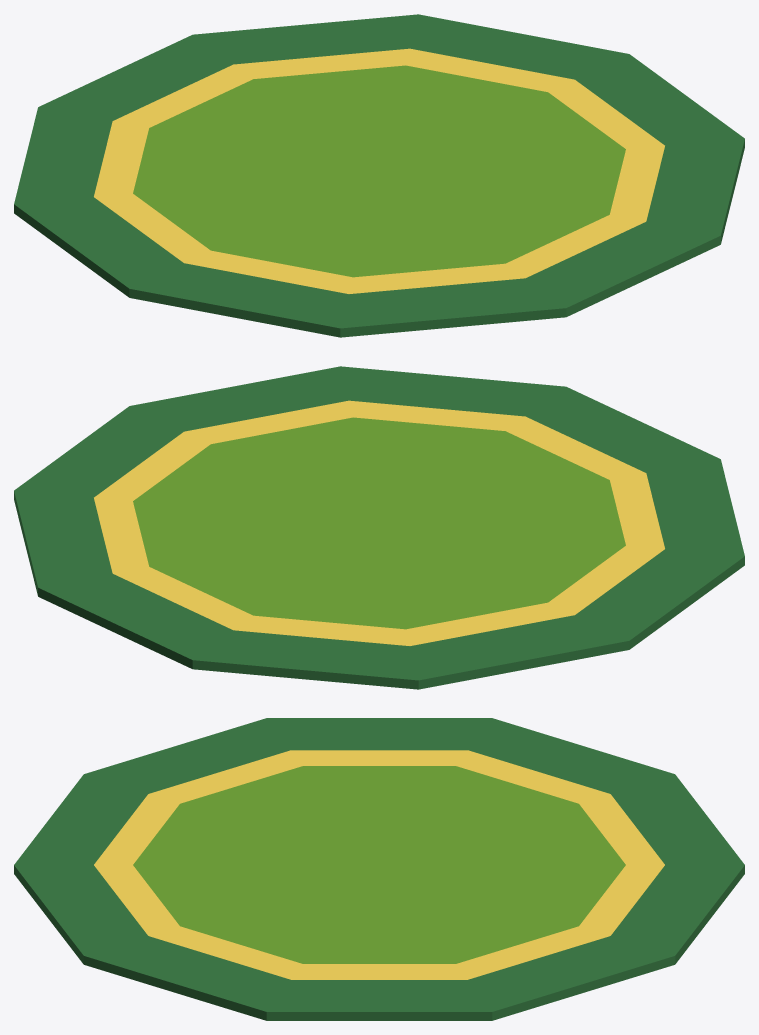
Rendered from Carpet3.glb.
The picture shows the model from 3 angles, top to bottom: view 1: azimuth 30°, elevation 25°; view 2: azimuth 150°, elevation 25°; view 3: azimuth 270°, elevation 25°; orthographic projection. The views are drawn at different scales.
Visible parts, largest first — view 1: Carpet3; view 2: Carpet3; view 3: Carpet3.
Part boxes in pixels (x1,y1,x2,y2): Carpet3: (14,14,744,337); Carpet3: (14,366,744,689); Carpet3: (14,718,744,1020).
Size of the model in its own units: 1.75 by 0.0248 by 1.84.
1 material, 1 textured.
